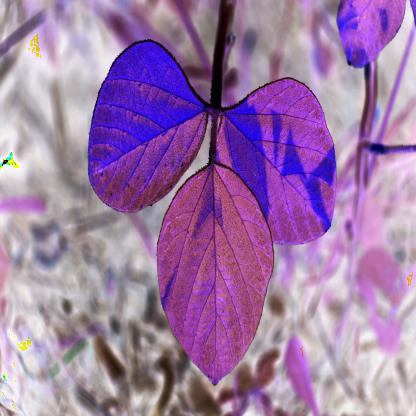Soybean leaf: (155, 159, 275, 390), (85, 38, 210, 213), (215, 73, 338, 245)
